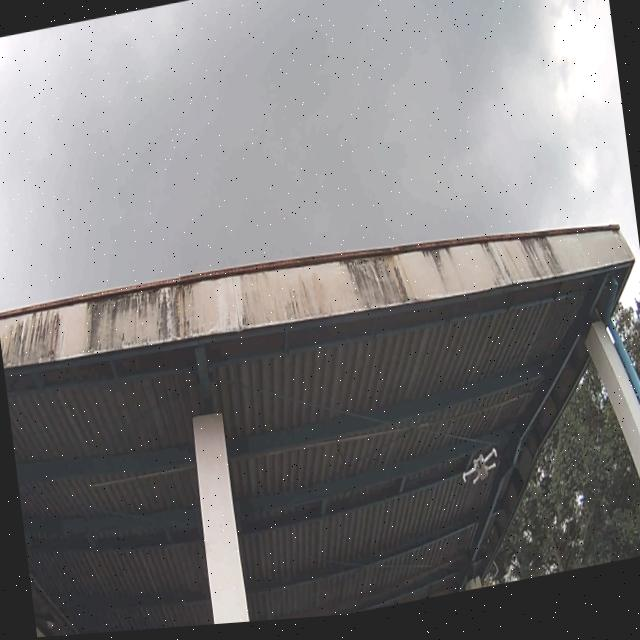drone: (459, 453, 500, 494)
